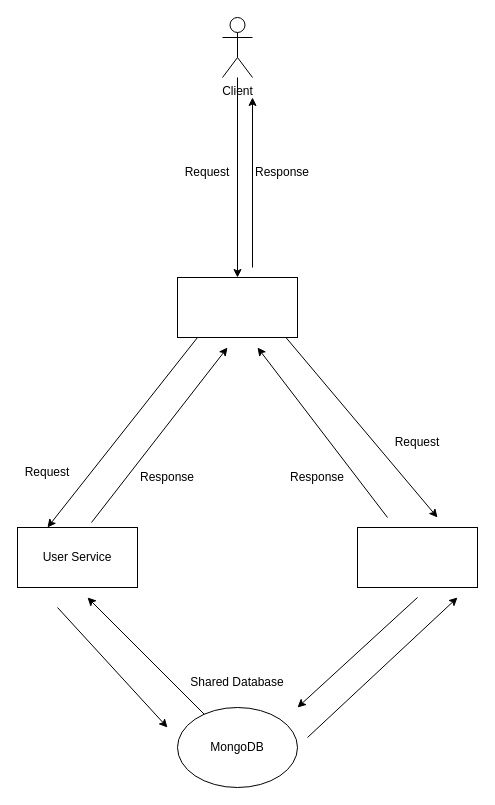
Some shapes in this 495 by 805 pixel diagram are drawn without their labels. Here are the shapes that lost their labels. From the top down, the box of each, then its label:
(176, 276, 298, 338): API Gateway
(356, 526, 478, 588): Auth Service
